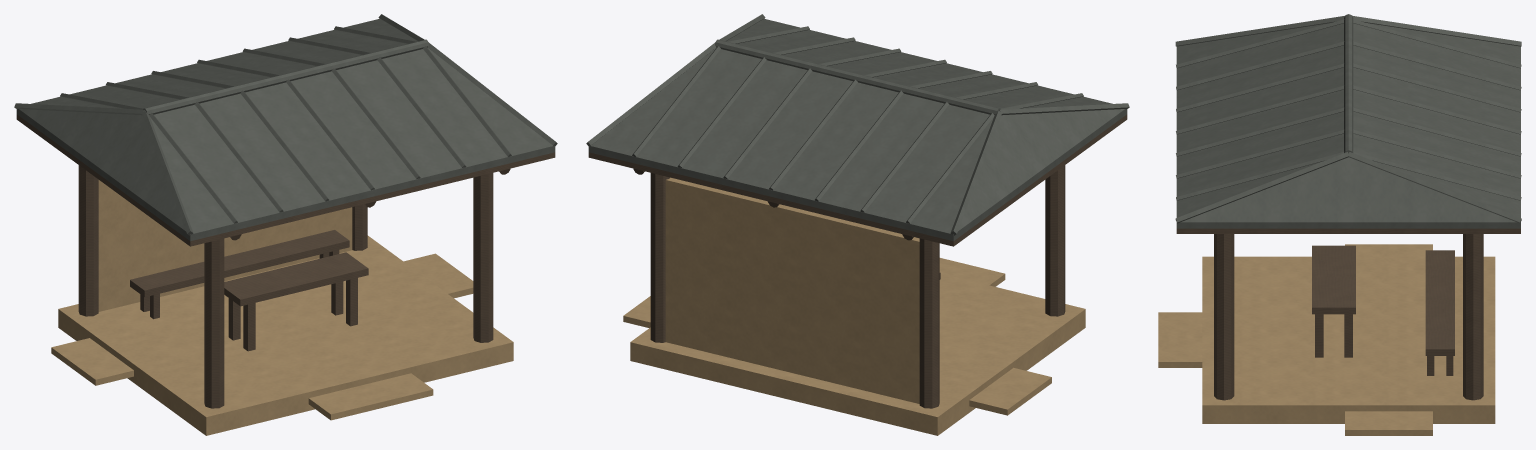
The model's file is guard-unit-LOD1.glb.
The picture shows the model from 3 angles, left to right: view 1: azimuth 30°, elevation 25°; view 2: azimuth 150°, elevation 25°; view 3: azimuth 270°, elevation 25°; orthographic projection.
Parts seen in each view (by area): view 1: guard-unit-unit-tile, guard-unit-unit-earth, guard-unit-unit-timber; view 2: guard-unit-unit-tile, guard-unit-unit-earth, guard-unit-unit-timber; view 3: guard-unit-unit-tile, guard-unit-unit-earth, guard-unit-unit-timber.
Boxes of the visible parts, x1,y1,x2,y2 form: guard-unit-unit-tile: [14, 14, 557, 241]; guard-unit-unit-earth: [51, 180, 513, 435]; guard-unit-unit-timber: [16, 114, 555, 408]; guard-unit-unit-tile: [586, 14, 1129, 241]; guard-unit-unit-earth: [623, 177, 1085, 435]; guard-unit-unit-timber: [588, 114, 1127, 408]; guard-unit-unit-tile: [1175, 14, 1521, 228]; guard-unit-unit-earth: [1158, 244, 1495, 435]; guard-unit-unit-timber: [1176, 228, 1520, 400].
Bounding box in the file's own units: 6 × 4.03 × 4.96.
3 materials, 3 textured.
